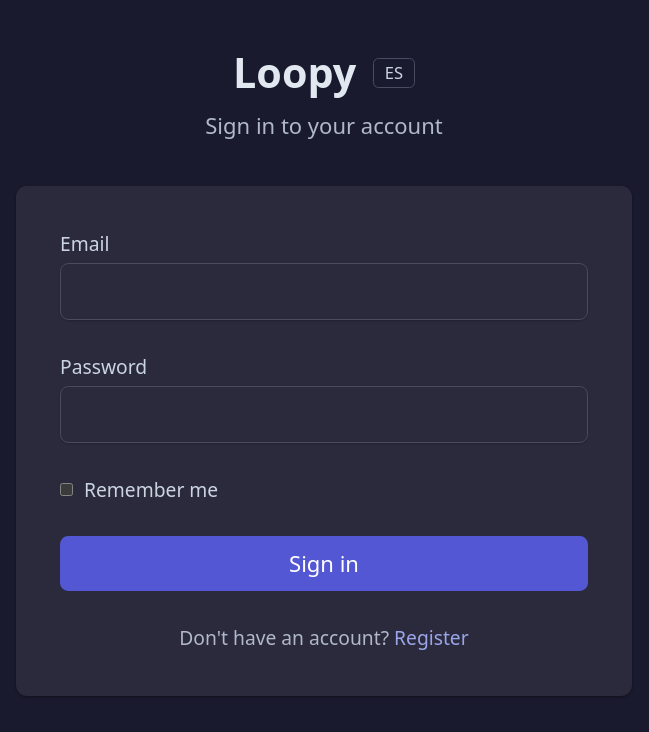
Scenario: Router / Navigation Tests › Navigation between pages › navigates from login to register page
Expected: the text "Sign in to your account" is shown, [205, 110, 443, 140]
# Click the Register link
Click the link "Register": (431, 638) [394, 624, 469, 651]
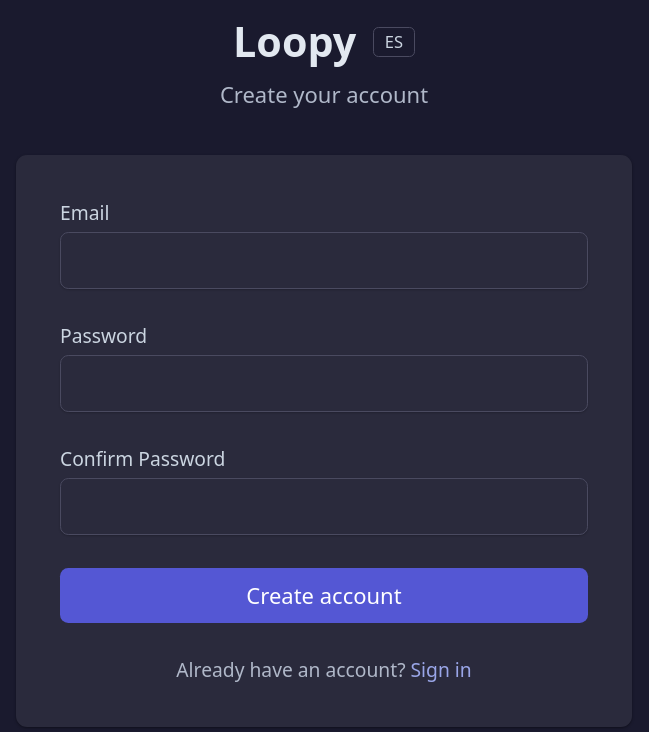
Result: the text "Create your account" is shown at [220, 78, 428, 108]
